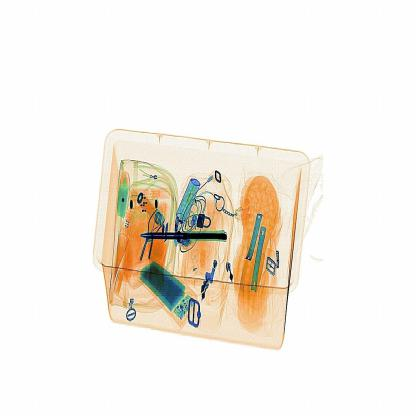gun: (134, 226, 245, 250)
